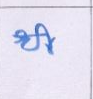i_matra: (37, 23, 56, 54)
